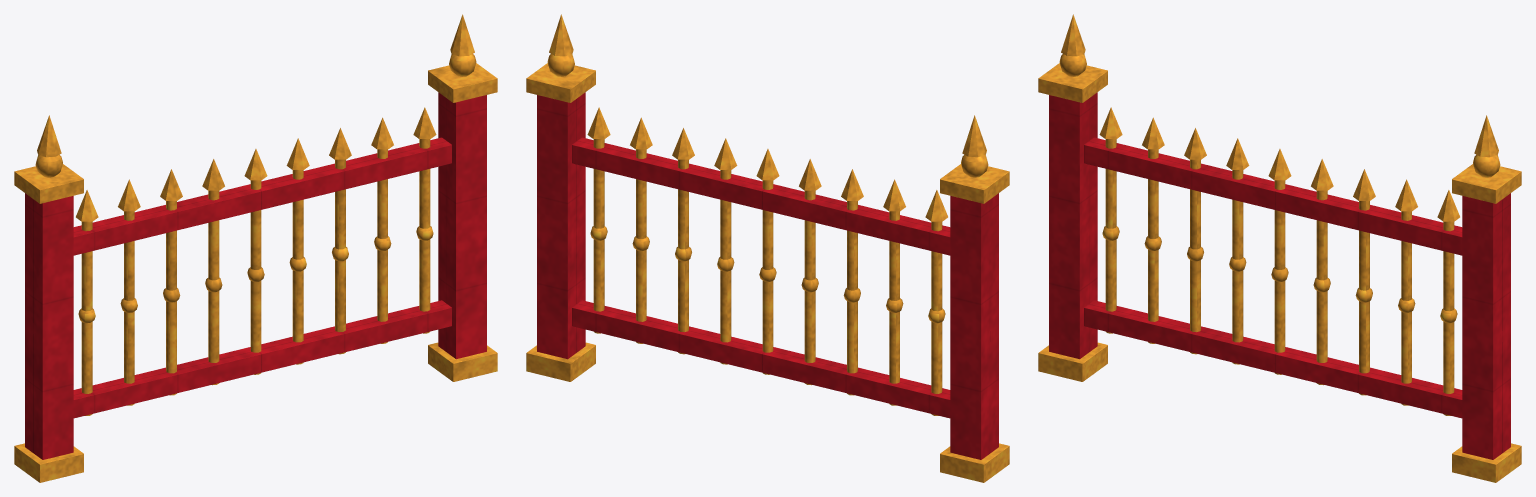
Rendered from CHO_Fence.fbx.
The picture shows the model from 3 angles, left to right: view 1: azimuth 30°, elevation 25°; view 2: azimuth 150°, elevation 25°; view 3: azimuth 330°, elevation 25°; orthographic projection.
Visible parts, largest first — view 1: CHO_Fence; view 2: CHO_Fence; view 3: CHO_Fence.
Boxes of the visible parts, bbox=[...] form: CHO_Fence: bbox=[14, 14, 497, 482]; CHO_Fence: bbox=[526, 14, 1009, 482]; CHO_Fence: bbox=[1038, 14, 1521, 482].
Bounding box in the file's own units: 2.06 × 1.52 × 0.2.
